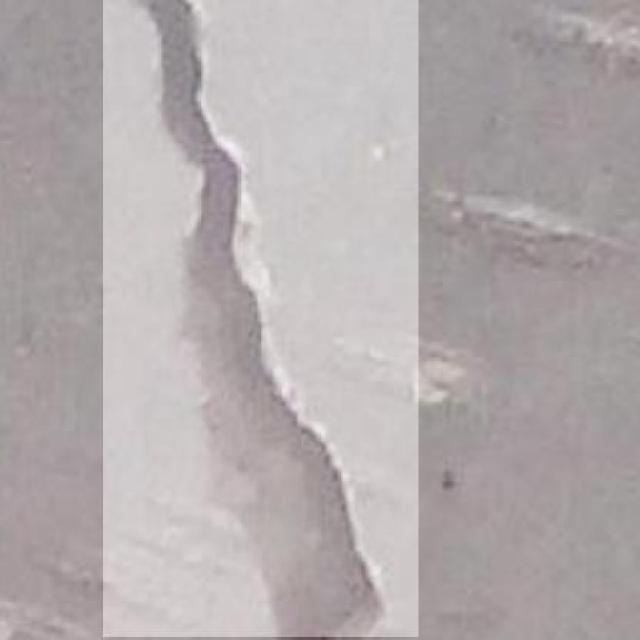Crack: (116, 0, 402, 640)
